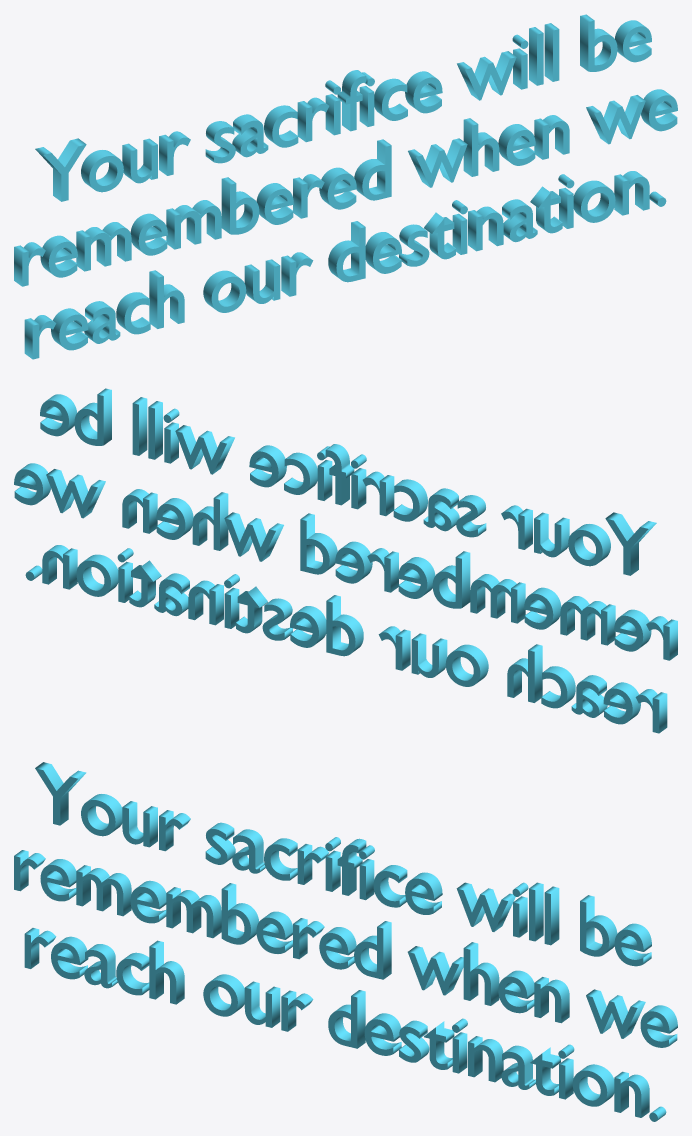
The model's file is console_game_over_002.fbx.
3 views of the same model, one above another, from view 1: azimuth 30°, elevation 25°; view 2: azimuth 150°, elevation 25°; view 3: azimuth 330°, elevation 25° (orthographic).
Parts seen in each view (by area): view 1: Txt_Test_01.013; view 2: Txt_Test_01.013; view 3: Txt_Test_01.013.
Boxes of the visible parts, x1,y1,x2,y2 form: Txt_Test_01.013: [14, 14, 677, 359]; Txt_Test_01.013: [14, 388, 677, 733]; Txt_Test_01.013: [14, 762, 677, 1121].
Size of the model in its own units: 1.23 by 0.3642 by 0.027.
